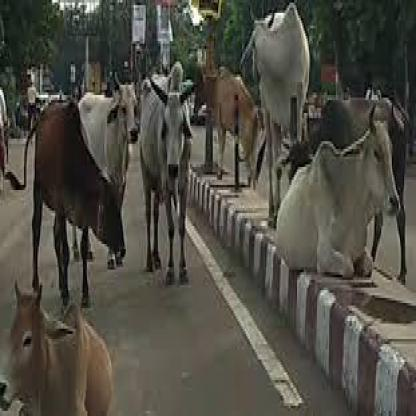cow: (276, 123, 401, 280), (33, 104, 125, 307), (0, 295, 111, 416), (141, 82, 195, 285), (77, 83, 137, 192)
